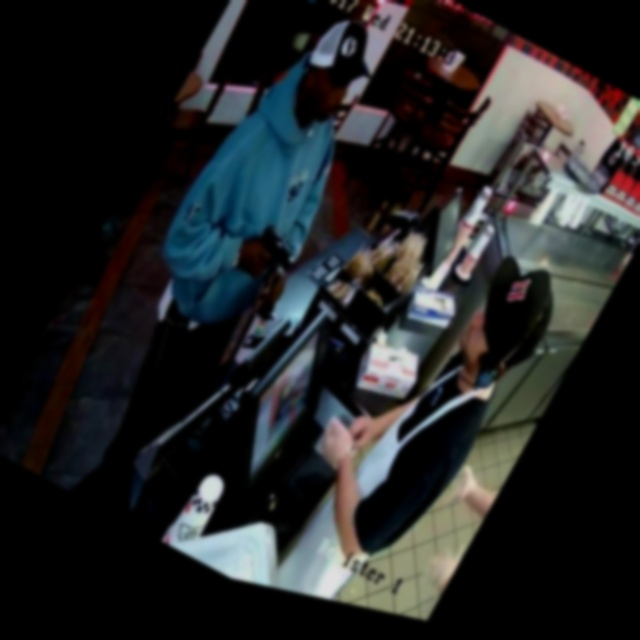gun: (224, 193, 328, 304)
